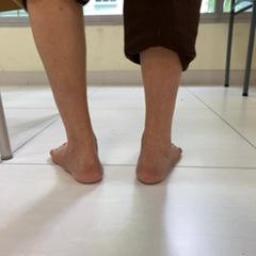Back View -Both Feet-: (36, 110, 193, 201)
